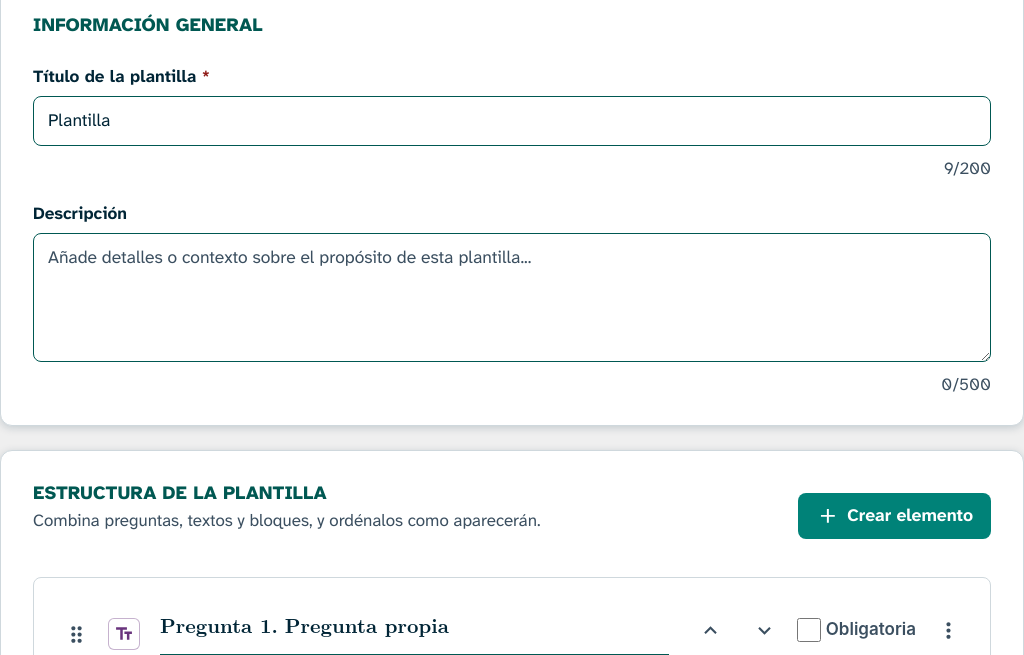
TemplateBuilder › mueve una pregunta propia dentro de un bloque y permite sacarla
Click the button named "Opciones de pregunta" at [948, 630], box [926, 608, 970, 652]
(page scrolled)
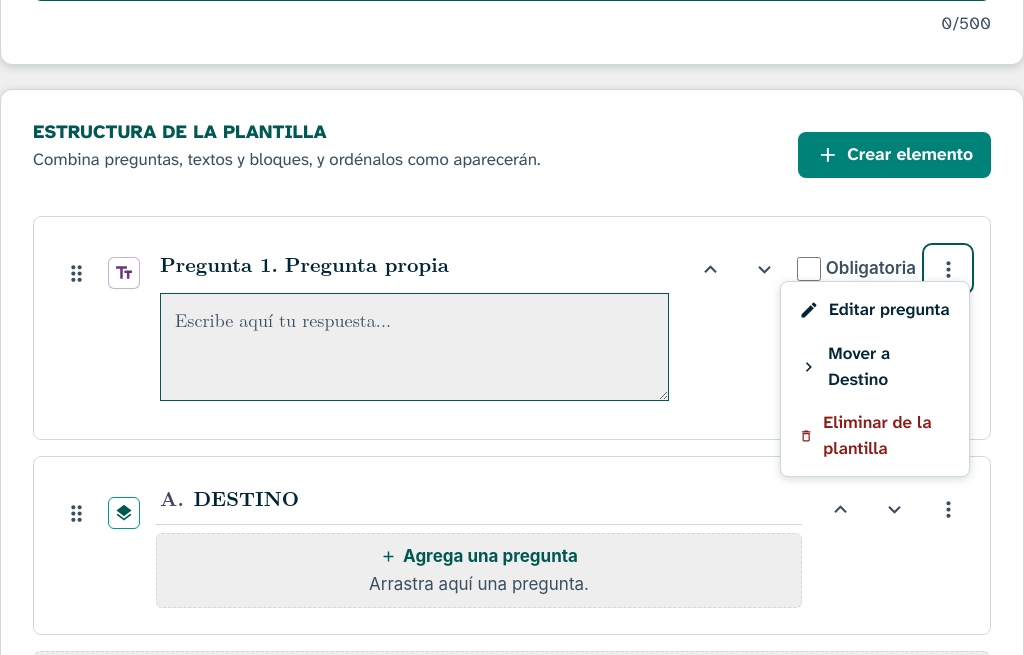
Click the button "Mover a Destino" at [875, 366], box [787, 332, 963, 401]
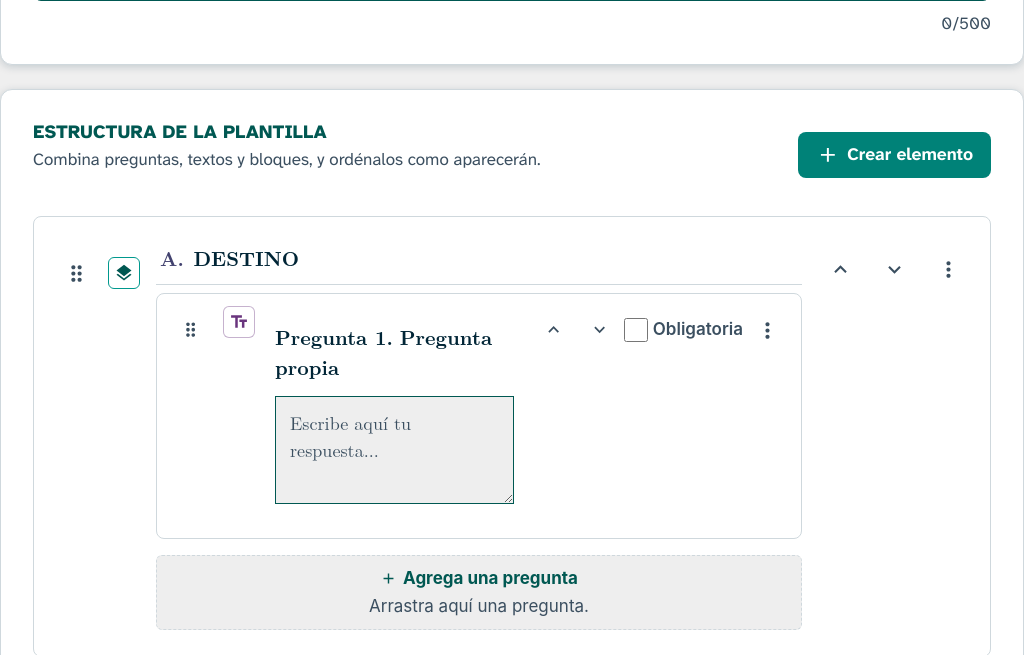
Now the button named "Opciones de la pregunta 1 del bloque" is shown
Click the button named "Opciones de la pregunta 1 del bloque" at [767, 330], box [745, 308, 789, 352]
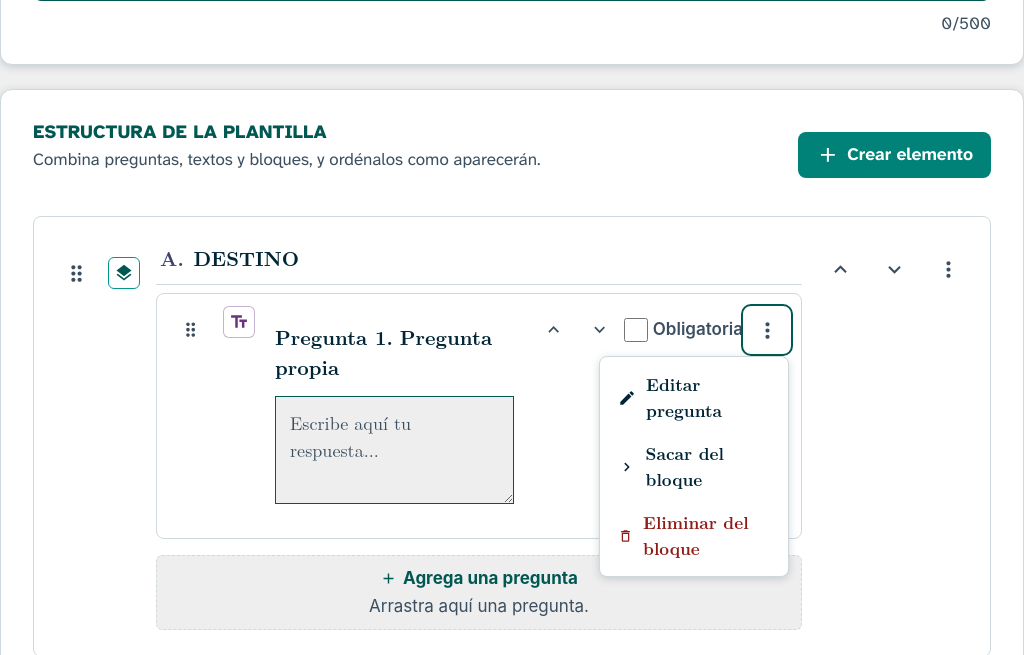
Click the button "Sacar del bloque" at [694, 466], box [606, 432, 782, 501]
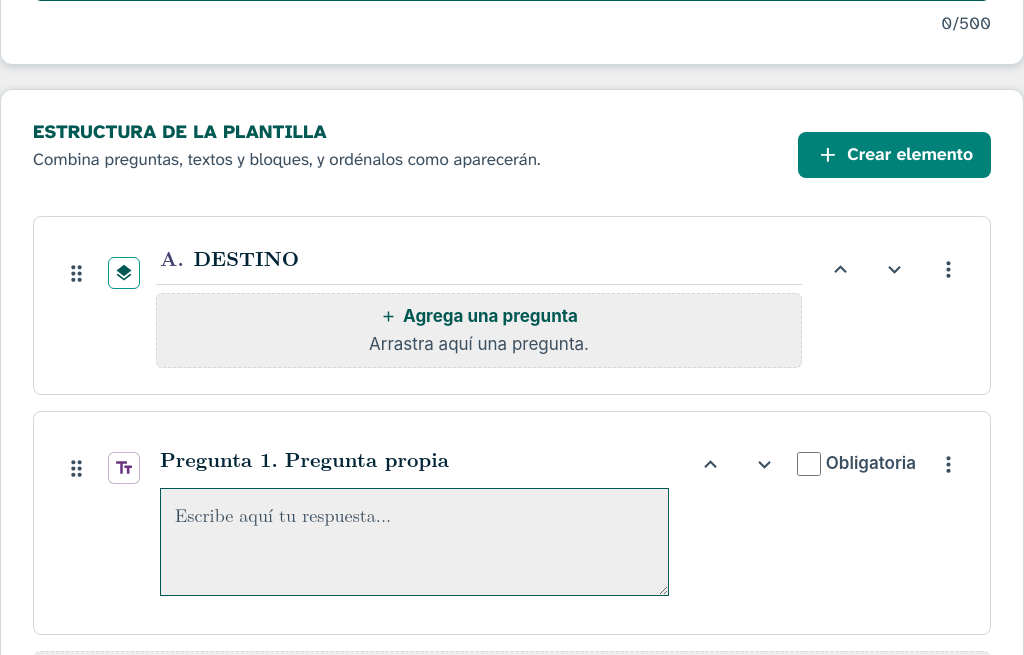
Now the button named "Opciones de pregunta" is shown, box [926, 442, 970, 486]
